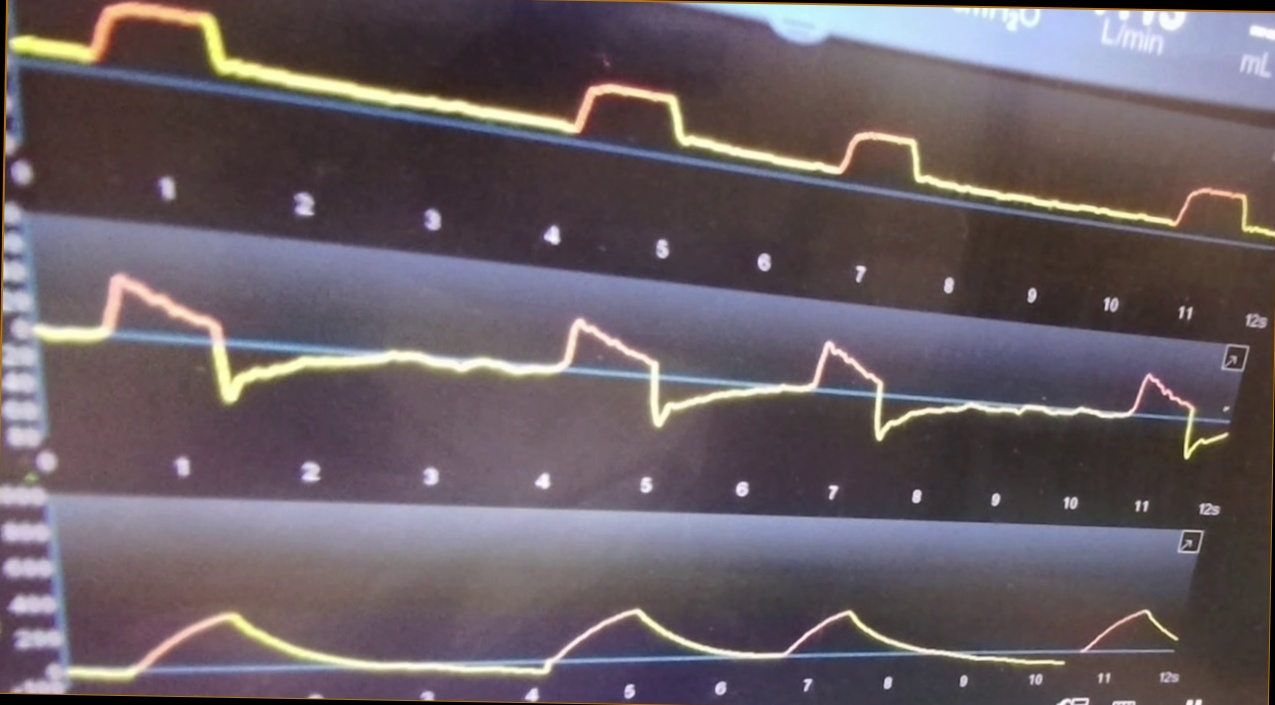Accumulation Flow: (27, 274, 1226, 468)
Volume: (70, 565, 1173, 705)
